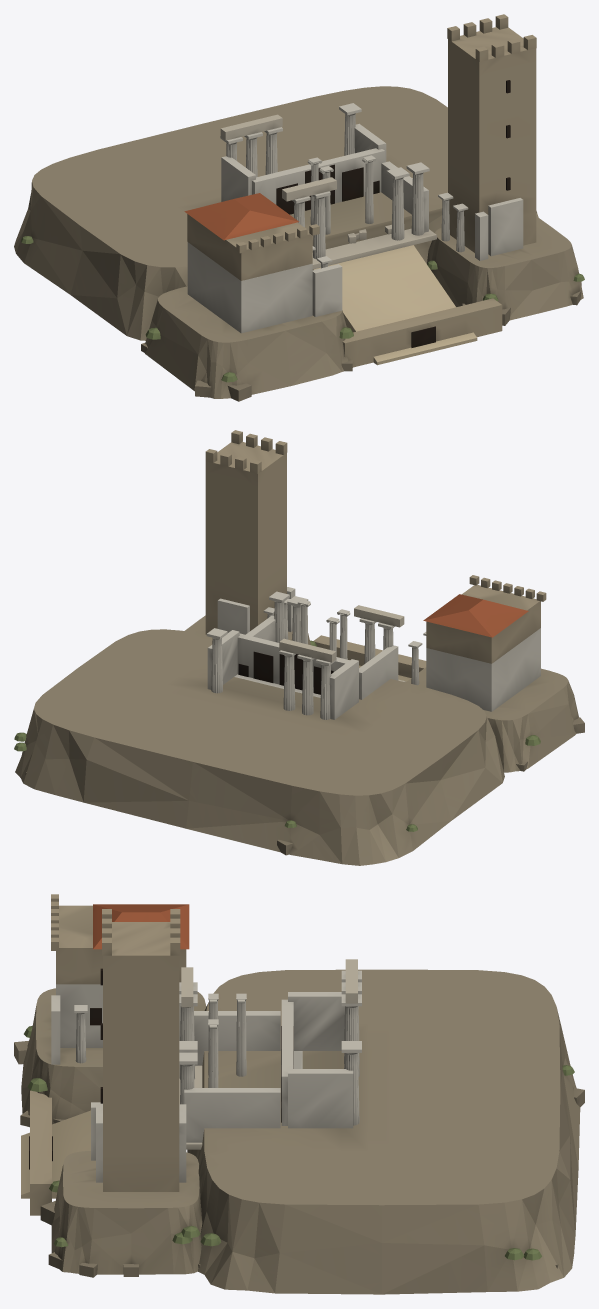
The model's file is propylaia-1680.glb.
3 renders of one model, top to bottom at view 1: azimuth 30°, elevation 25°; view 2: azimuth 150°, elevation 25°; view 3: azimuth 270°, elevation 25°, orthographic. The views are drawn at different scales.
Parts seen in each view (by area): view 1: p0_rock, p1_columns, p3_towers, p2_entablature; view 2: p0_rock, p3_towers, p1_columns, p2_entablature; view 3: p0_rock, p1_columns, p3_towers, p2_entablature.
Boxes of the visible parts, bbox=[...] form: p0_rock: bbox=[14, 86, 584, 401]; p1_columns: bbox=[187, 103, 523, 367]; p3_towers: bbox=[184, 14, 536, 280]; p2_entablature: bbox=[220, 114, 391, 243]; p0_rock: bbox=[14, 615, 584, 865]; p3_towers: bbox=[205, 430, 546, 663]; p1_columns: bbox=[206, 587, 540, 719]; p2_entablature: bbox=[279, 605, 404, 662]; p0_rock: bbox=[14, 969, 584, 1294]; p1_columns: bbox=[29, 970, 361, 1215]; p3_towers: bbox=[51, 894, 189, 1191]; p2_entablature: bbox=[181, 959, 357, 1087].
Size of the model in its own units: 60.32 by 34.2 by 56.93.
